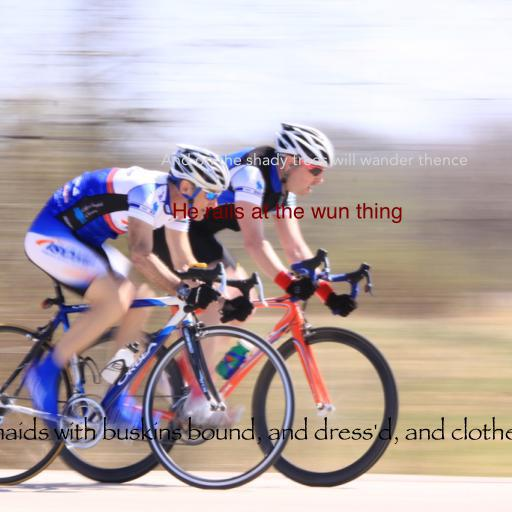Avenir: (160, 152, 468, 169)
Papyrus: (0, 416, 512, 445)
SignPainter: (171, 203, 403, 224)
